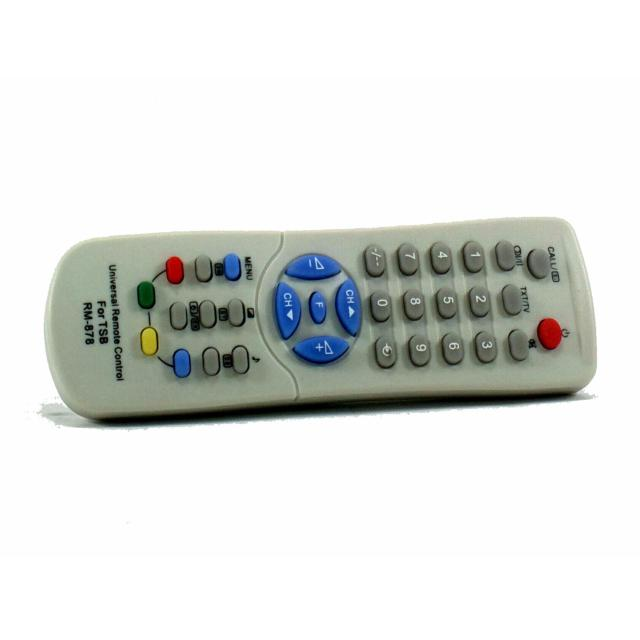remote: (47, 217, 597, 422)
